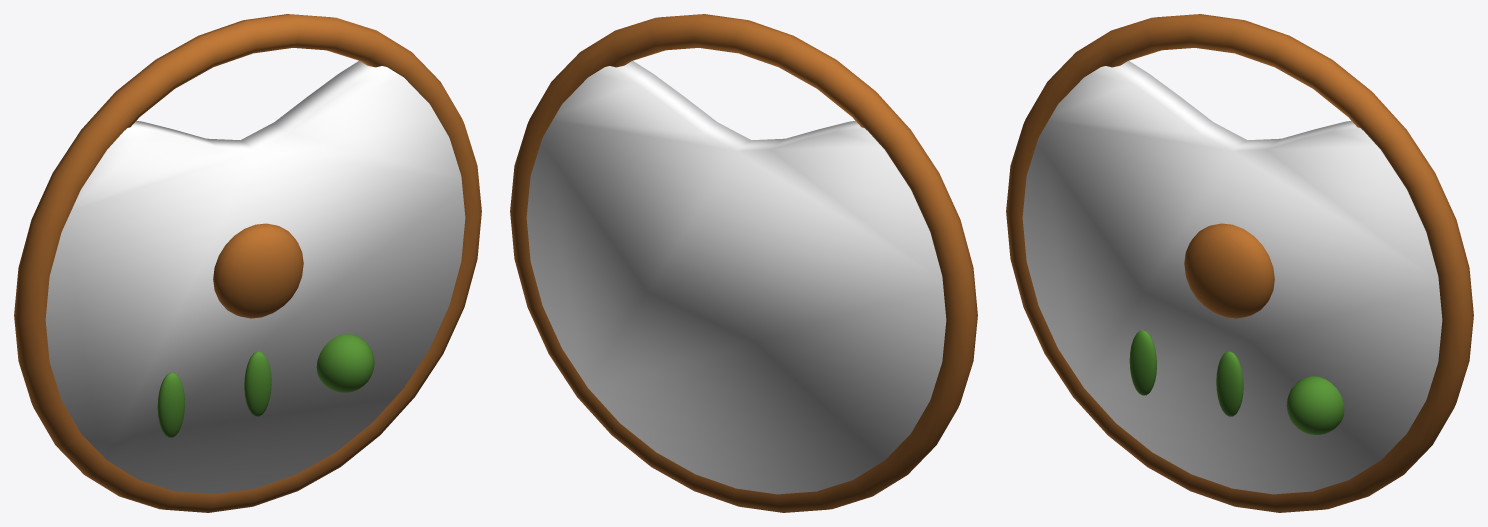
The model's file is pelta.glb.
3 views of the same model, side by side, from view 1: azimuth 30°, elevation 25°; view 2: azimuth 150°, elevation 25°; view 3: azimuth 330°, elevation 25° (orthographic).
Visible parts, largest first — view 1: pelta_fijo; view 2: pelta_fijo; view 3: pelta_fijo.
Boxes of the visible parts, x1,y1,x2,y2 form: pelta_fijo: (14, 14, 481, 512); pelta_fijo: (510, 14, 977, 512); pelta_fijo: (1006, 14, 1473, 512).
Bounding box in the file's own units: 1.07 × 1.07 × 0.1333.
Materials: 2 (2 with a texture image).
